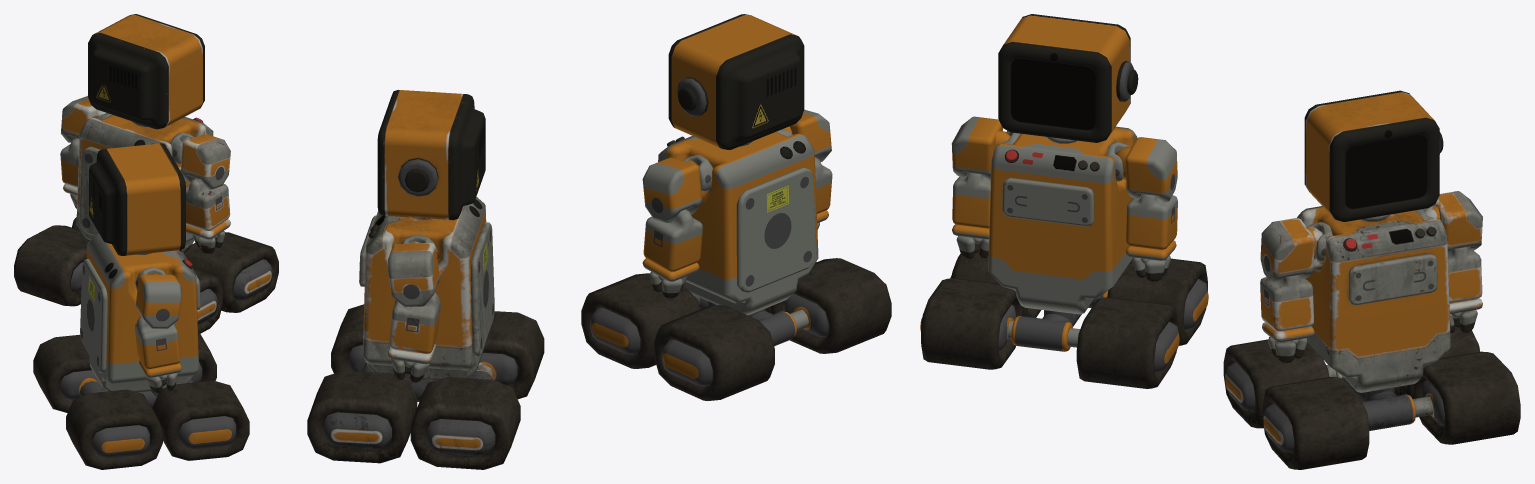
Rendered from showcaseOrangeIndustrialRobot.d816ddb7.glb.
3 renders of one model, left to right at view 1: azimuth 30°, elevation 25°; view 2: azimuth 150°, elevation 25°; view 3: azimuth 270°, elevation 25°, orthographic. The views are drawn at different scales.
Visible parts, largest first — view 1: Robot.003, Robot.004; view 2: Robot.003, Robot.004; view 3: Robot.004, Robot.003.
Part boxes in pixels (x1,y1,x2,y2): Robot.003: [33, 143, 249, 469]; Robot.004: [14, 14, 278, 333]; Robot.003: [581, 14, 891, 400]; Robot.004: [307, 90, 544, 469]; Robot.004: [1223, 90, 1520, 469]; Robot.003: [920, 14, 1208, 388].
Size of the model in its own units: 1.18 by 0.8849 by 1.55.
2 materials, 2 textured.
